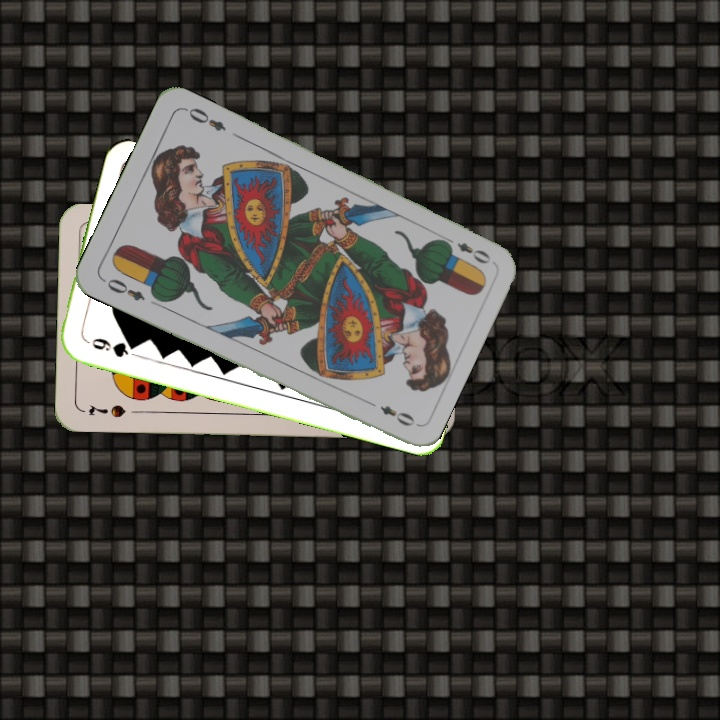EO: (439, 232, 494, 267), (98, 274, 148, 304)
G9: (81, 334, 140, 360)
S7: (84, 400, 128, 420)
